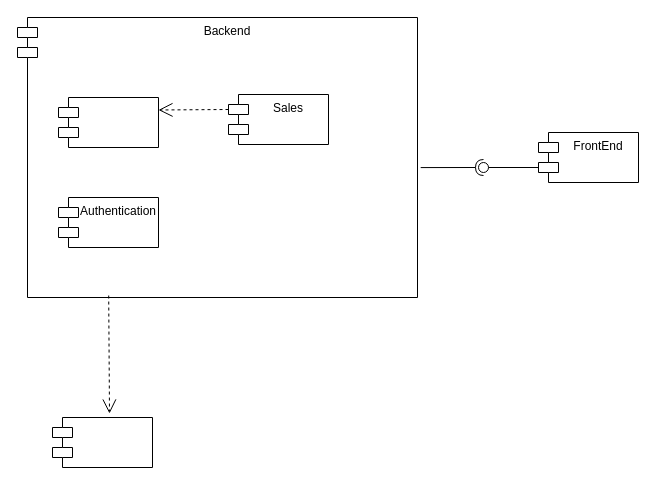
The diagram is 656 pixels wide and 485 high, and some of its shapes have lost their labels. The shapes that lost their labels are listed below. From the top down, each one's centre as x and y in pixels, then its label:
point (108, 122): Inventory
point (102, 442): DataBase
